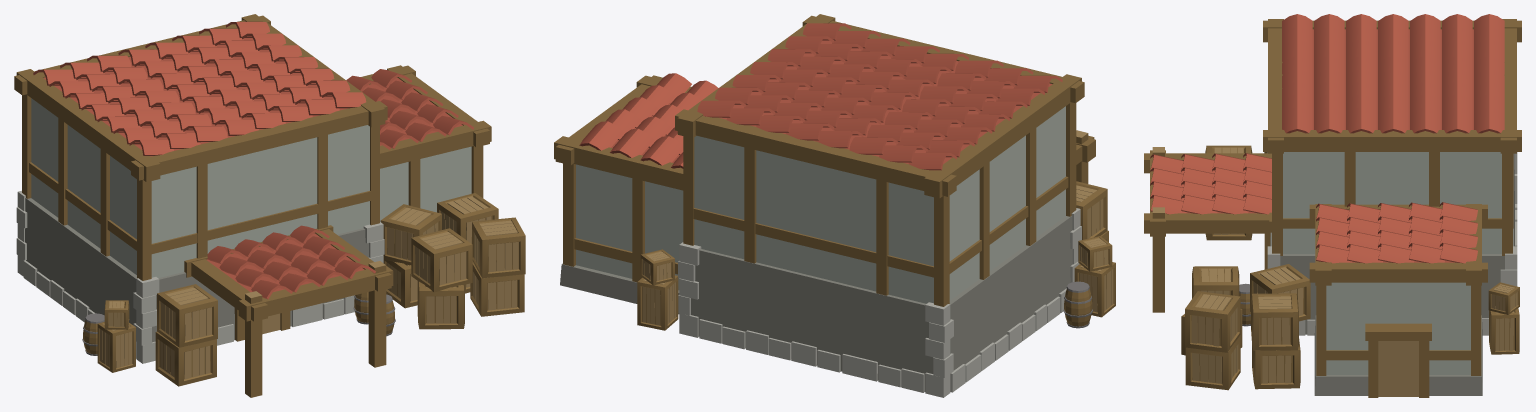
The model's file is quaternius-real-time-strategy-storage-second-age-level-3.glb.
3 views of the same model, side by side, from view 1: azimuth 30°, elevation 25°; view 2: azimuth 150°, elevation 25°; view 3: azimuth 270°, elevation 25° (orthographic). The views are drawn at different scales.
Parts seen in each view (by area): view 1: Storage_SecondAge_Level3; view 2: Storage_SecondAge_Level3; view 3: Storage_SecondAge_Level3.
Boxes of the visible parts, box(x1,y1,x2,y2) form: Storage_SecondAge_Level3: box(14, 14, 525, 397); Storage_SecondAge_Level3: box(554, 14, 1115, 397); Storage_SecondAge_Level3: box(1144, 14, 1521, 397).
Size of the model in its own units: 1.81 by 0.899 by 1.43.
1 material, 1 textured.
